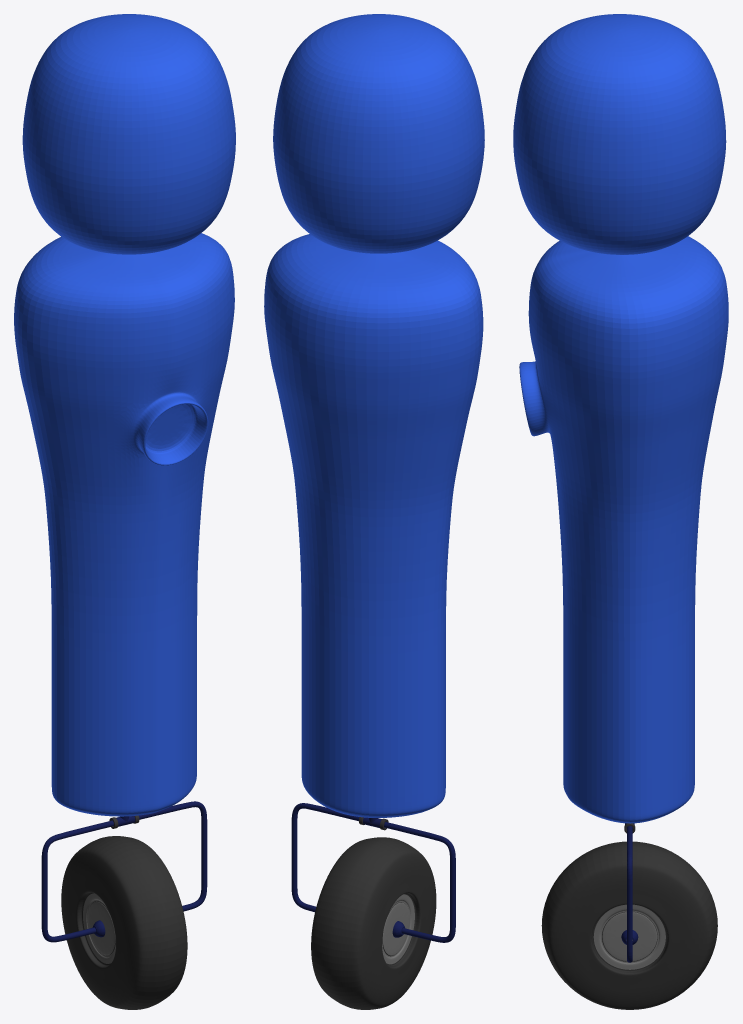
File: ground_roller.fbx
The picture shows the model from 3 angles, left to right: view 1: azimuth 30°, elevation 25°; view 2: azimuth 150°, elevation 25°; view 3: azimuth 270°, elevation 25°; orthographic projection.
Parts seen in each view (by area): view 1: Body, Wheel, Axis_Wheel; view 2: Body, Wheel, Axis_Wheel; view 3: Body, Wheel, Axis_Wheel.
Boxes of the visible parts, bbox=[...] form: Body: bbox=[14, 14, 235, 816]; Wheel: bbox=[61, 836, 187, 1009]; Axis_Wheel: bbox=[41, 801, 207, 942]; Body: bbox=[264, 14, 484, 817]; Wheel: bbox=[311, 837, 436, 1009]; Axis_Wheel: bbox=[291, 803, 455, 942]; Body: bbox=[513, 14, 728, 823]; Wheel: bbox=[541, 841, 717, 1009]; Axis_Wheel: bbox=[627, 826, 632, 962].
Size of the model in its own units: 144 by 653 by 131.
Materials: 6 (1 with a texture image).
